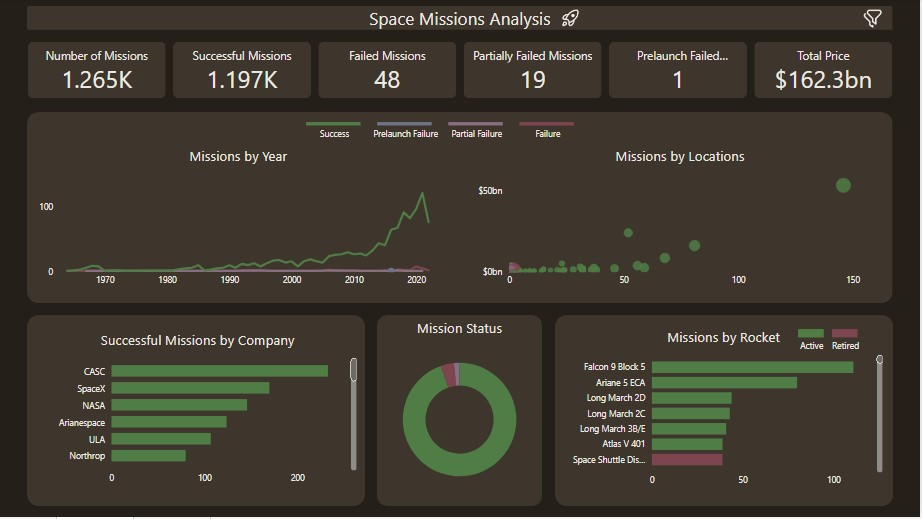

What the dashboard file says about the page in this screenshot:
{"tool":"powerbi","page":{"name":"Dashboard","canvas":[1280,720],"ordinal":0},"visuals":[{"type":"shape","box":[37.6,9.7,1203.5,33.4],"z":0,"group":"g2"},{"type":"cardVisual","fields":{"Data":["CountNonNull(Space Missions.Mission)","Space Missions.Succssful Missions","Space Missions.Failed Missions","Space Missions.Partially Failed Missions","Space Missions.Prelaunch Failed Missions","Sum(Space Missions.Price)"]},"box":[33.4,54.3,1213.2,89],"z":0},{"type":"shape","box":[37.6,157.2,1203.5,265.7],"z":0,"group":"g1"},{"type":"shape","box":[37.6,439.7,470,265.7],"z":0,"group":"g5"},{"type":"shape","box":[524.5,439.7,229.6,265.7],"z":0,"group":"g4"},{"type":"shape","box":[770.8,439.7,470.3,265.7],"z":0,"group":"g3"},{"type":"image","title":"filter on","box":[1192.1,9.5,39.7,34.9],"z":500,"group":"g2"},{"type":"image","box":[771.5,9.5,42.9,33.3],"z":1000,"group":"g2"},{"type":"group","id":"g1","title":"Group 1","box":[37.6,157,1203.5,265.9],"z":1000},{"type":"lineChart","title":" Missions by Year","fields":{"Category":["Space Missions.Date.Variation.Date Hierarchy.Year"],"Series":["Space Missions.MissionStatus"],"Y":["CountNonNull(Space Missions.Mission)"]},"box":[49.2,206.3,565.1,203.2],"z":1000,"group":"g1"},{"type":"donutChart","title":"Mission Status","fields":{"Y":["CountNonNull(Space Missions.Mission)"],"Category":["Space Missions.MissionStatus"]},"box":[535.6,445.3,207.3,254.6],"z":1000,"group":"g4"},{"type":"barChart","title":"Missions by Rocket","fields":{"Category":["Space Missions.Rocket"],"Y":["CountNonNull(Space Missions.Mission)"]},"box":[779.1,457.8,452.2,229.6],"z":1000,"group":"g3"},{"type":"barChart","fields":{"Category":["Space Missions.Company"],"Y":["Space Missions.Succssful Missions"]},"box":[48.7,462,452.2,222.6],"z":1000,"group":"g5"},{"type":"group","id":"g2","title":"Dashboard","box":[37.6,9.5,1203.5,34.9],"z":2000},{"type":"scatterChart","title":"Missions by Locations","fields":{"X":["Space Missions.Mission"],"Y":["Sum(Space Missions.Price)"],"Category":["Space Missions.Location"],"Series":["Space Missions.MissionStatus"],"Size":["Space Missions.Succssful Missions"]},"box":[658.8,206.3,573,203.2],"z":2000,"group":"g1"},{"type":"clusteredColumnChart","title":" Missions by Year","fields":{"Y":["Space Missions.Legend"],"Category":["Space Missions.RocketStatus"]},"box":[1061.6,445.3,179.5,55.7],"z":2000,"group":"g3"},{"type":"clusteredColumnChart","title":" Missions by Year","fields":{"Category":["Space Missions.MissionStatus"],"Y":["Space Missions.Legend"]},"box":[382.5,157,468.6,51.4],"z":3000,"group":"g1"},{"type":"group","id":"g3","title":"Missions by rocket","box":[770.8,439.7,470.3,265.7],"z":3000},{"type":"group","id":"g4","title":"Mission Status","box":[524.5,439.7,229.6,265.7],"z":4000},{"type":"group","id":"g5","title":"Missions by company","box":[37.6,439.7,470,265.7],"z":5000}]}

Visuals, with their boxes in screenshot pixels (x1, y1, x2, y2), scaled from the page's 1280x720 canvas onto the 922x519 screenshot:
shape: [27,7,894,31]
cardVisual - CountNonNull(Space Missions.Mission) x Space Missions.Succssful Missions: [24,39,898,103]
shape: [27,113,894,305]
shape: [27,317,366,508]
shape: [378,317,543,508]
shape: [555,317,894,508]
"filter on" image: [859,7,887,32]
image: [556,7,587,31]
"Group 1" group: [27,113,894,305]
" Missions by Year" lineChart: [35,149,442,295]
"Mission Status" donutChart: [386,321,535,505]
"Missions by Rocket" barChart: [561,330,887,496]
barChart - Space Missions.Company x Space Missions.Succssful Missions: [35,333,361,493]
"Dashboard" group: [27,7,894,32]
"Missions by Locations" scatterChart: [475,149,887,295]
" Missions by Year" clusteredColumnChart: [765,321,894,361]
" Missions by Year" clusteredColumnChart: [276,113,613,150]
"Missions by rocket" group: [555,317,894,508]
"Mission Status" group: [378,317,543,508]
"Missions by company" group: [27,317,366,508]
